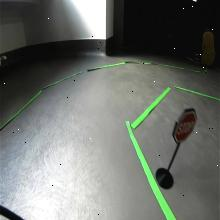stop: (174, 108, 198, 144)
